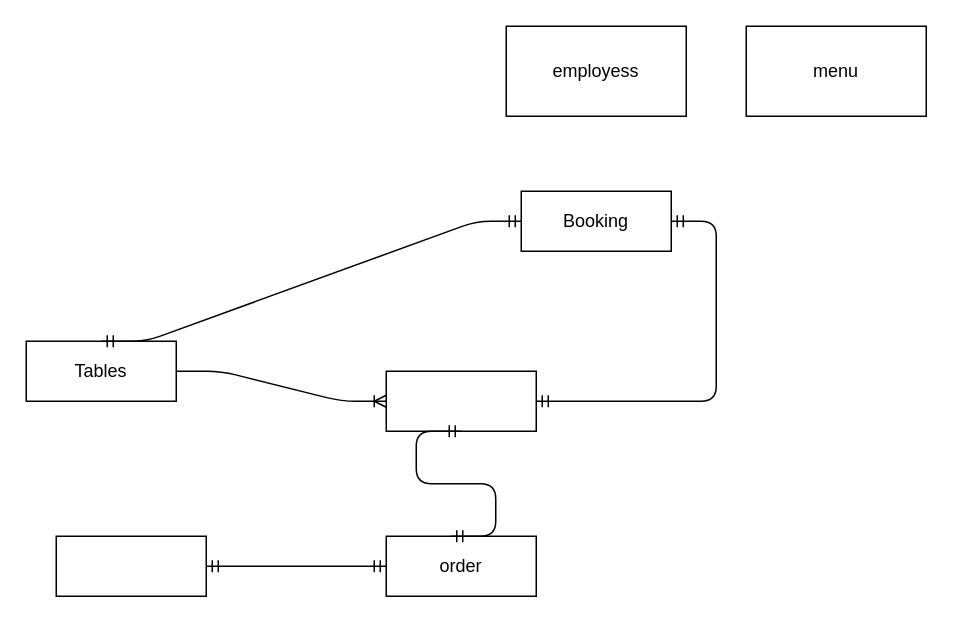
Some shapes in this 953 by 623 pixel diagram are drawn without their labels. Here are the shapes that lost their labels. From the top down, the centre of each, then its label:
[460,400]: Customer
[130,565]: check
